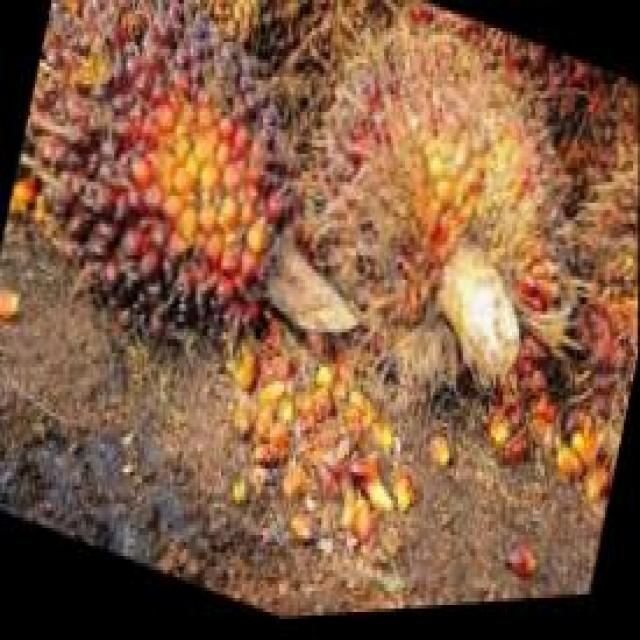Ripefruit: (287, 0, 618, 462), (0, 0, 340, 395)
